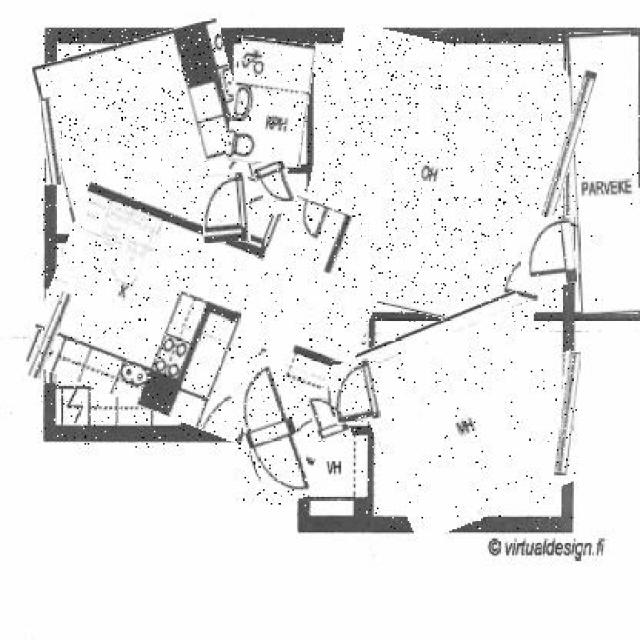door: (236, 356, 306, 506), (518, 217, 576, 288), (200, 172, 251, 243), (329, 360, 377, 423), (310, 386, 348, 445), (258, 157, 296, 214)
window: (552, 69, 586, 220), (36, 289, 64, 380), (557, 351, 577, 475), (42, 97, 58, 185)
zone: (40, 149, 383, 448), (300, 34, 575, 326), (360, 303, 575, 529), (43, 29, 255, 248), (569, 31, 640, 314), (231, 39, 311, 166)
